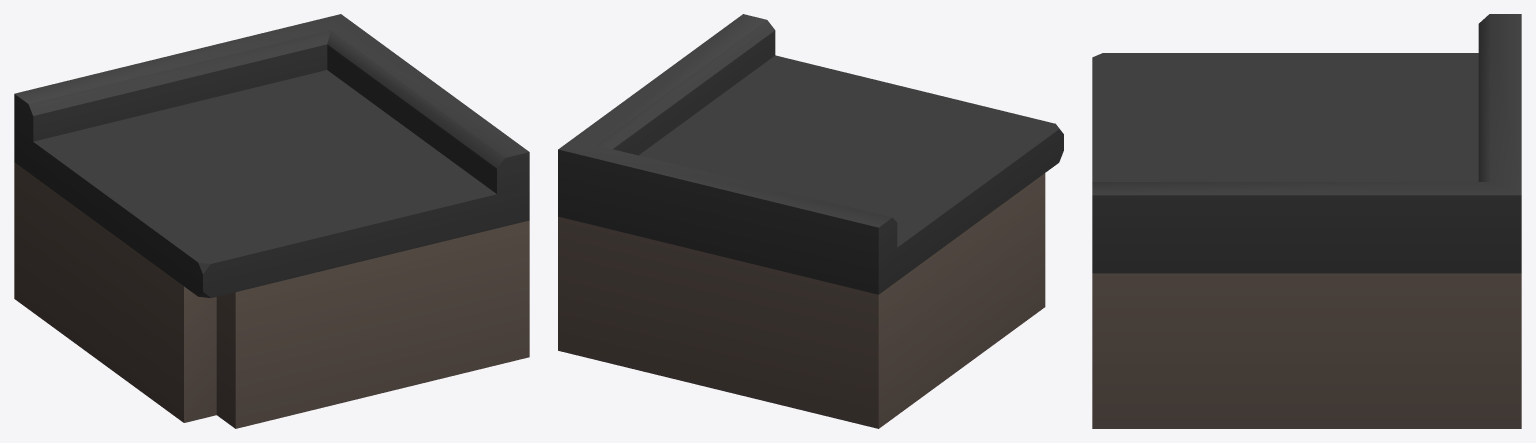
The model's file is kitchencounter_innercorner_backsplash_styleB.obj.
3 views of the same model, side by side, from view 1: azimuth 30°, elevation 25°; view 2: azimuth 150°, elevation 25°; view 3: azimuth 270°, elevation 25° (orthographic). The views are drawn at different scales.
Visible parts, largest first — view 1: kitchencounter_innercorner_backsplash_styleB_Cube.016; view 2: kitchencounter_innercorner_backsplash_styleB_Cube.016; view 3: kitchencounter_innercorner_backsplash_styleB_Cube.016.
Boxes of the visible parts, x1,y1,x2,y2 form: kitchencounter_innercorner_backsplash_styleB_Cube.016: (14, 14, 529, 428); kitchencounter_innercorner_backsplash_styleB_Cube.016: (558, 14, 1063, 428); kitchencounter_innercorner_backsplash_styleB_Cube.016: (1092, 14, 1521, 428).
Bounding box in the file's own units: 2 × 1.2 × 2.
1 material, 1 textured.
